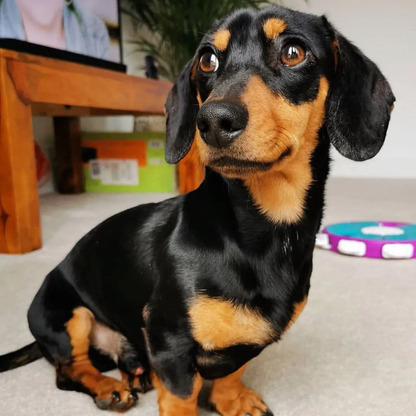dachshund: (28, 18, 400, 394)
